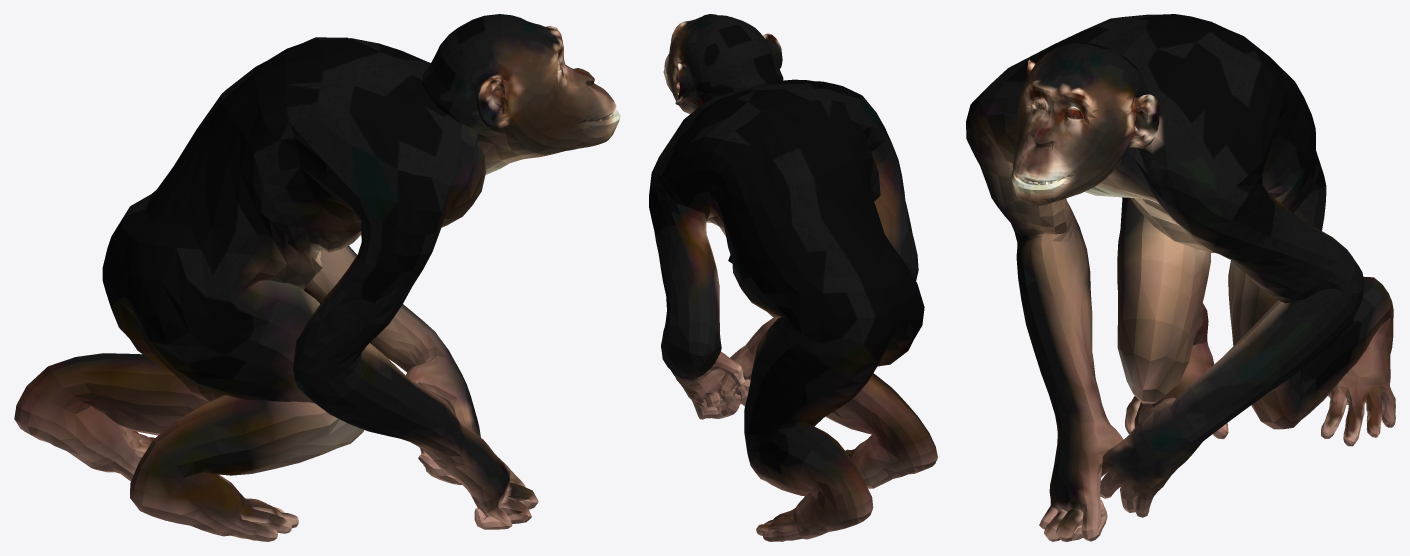
Rendered from bonobo.mesh.glb.
The picture shows the model from 3 angles, left to right: view 1: azimuth 30°, elevation 25°; view 2: azimuth 150°, elevation 25°; view 3: azimuth 270°, elevation 25°; orthographic projection. The views are drawn at different scales.
Parts seen in each view (by area): view 1: root; view 2: root; view 3: root.
Part boxes in pixels (bbox=[...]): root: bbox=[14, 14, 620, 541]; root: bbox=[649, 14, 937, 541]; root: bbox=[966, 14, 1395, 541].
Bounding box in the file's own units: 0.3995 × 0.4434 × 0.3518.
1 material, 1 textured.
